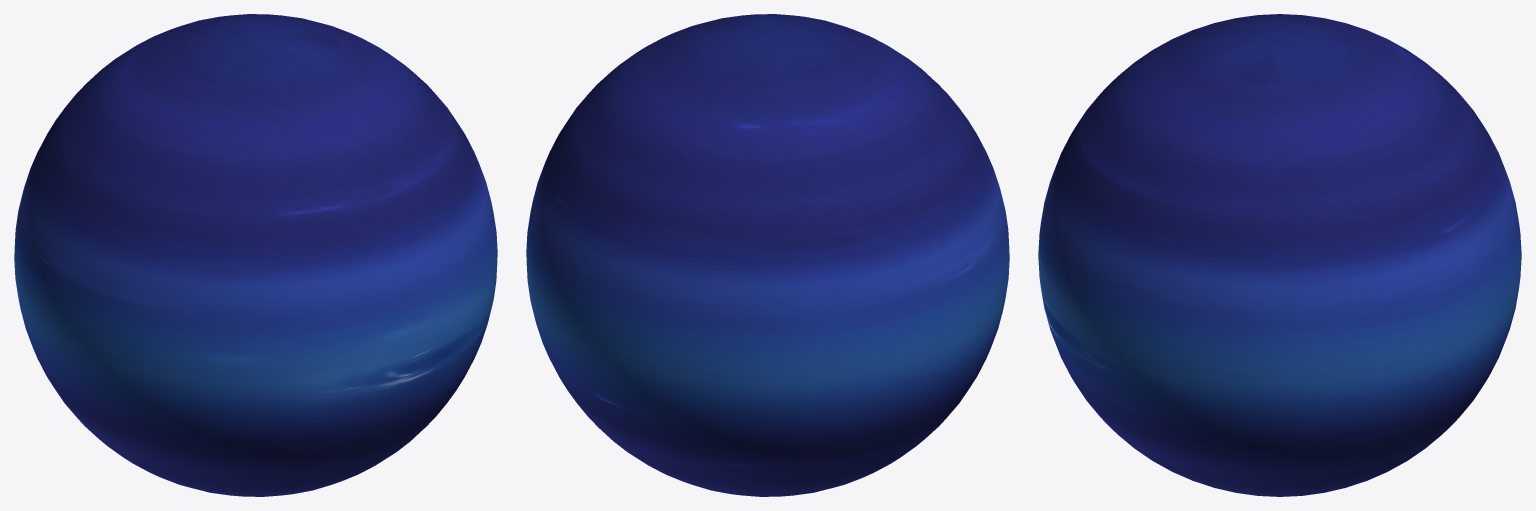
Rendered from neptune.glb.
The picture shows the model from 3 angles, left to right: view 1: azimuth 30°, elevation 25°; view 2: azimuth 150°, elevation 25°; view 3: azimuth 270°, elevation 25°; orthographic projection.
Parts seen in each view (by area): view 1: node-0; view 2: node-0; view 3: node-0.
Boxes of the visible parts, x1,y1,x2,y2 form: node-0: (14, 14, 497, 496); node-0: (526, 14, 1009, 496); node-0: (1038, 14, 1521, 496).
Size of the model in its own units: 1.13 by 1.13 by 1.13.
1 material, 1 textured.
